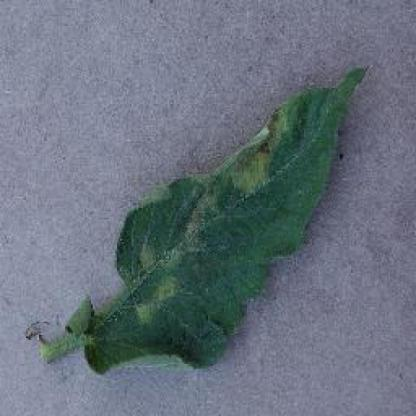Tomato_Leaf_Mold: (90, 68, 367, 374)
